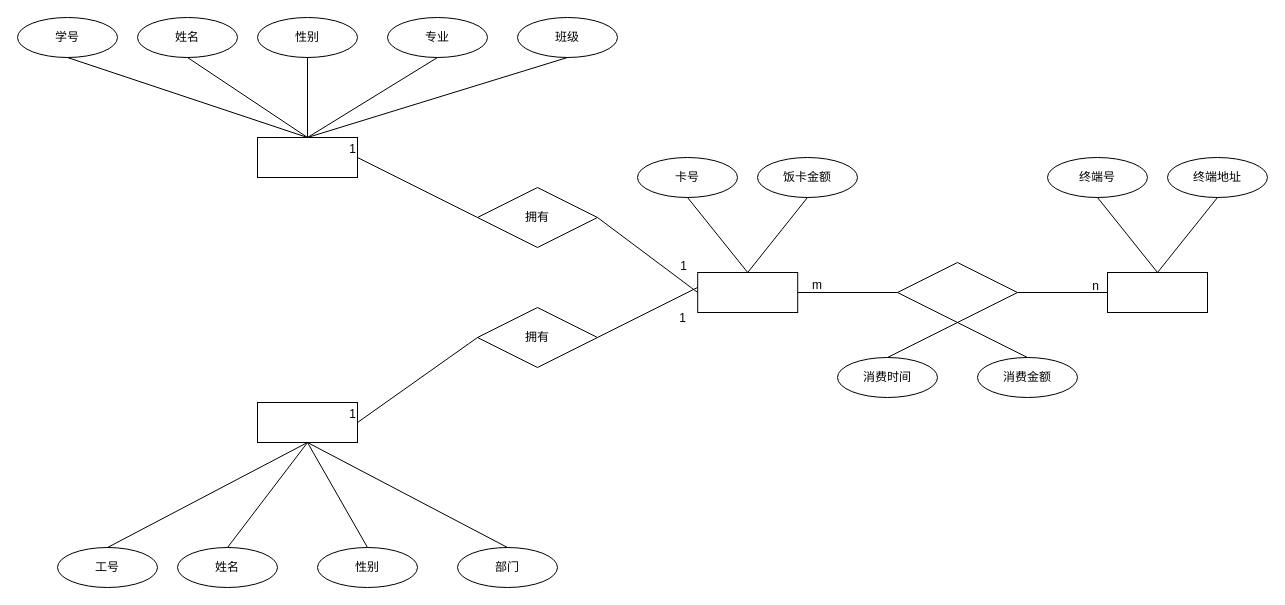
Image size: 1285x605. Some labels were removed from this diagram. Here are the shapes that lost their labels. From the top down, the centre of each, then its label:
point 307,157: 学生
point 747,292: 饭卡
point 957,292: 消费
point 1157,292: 终端
point 307,422: 教师
